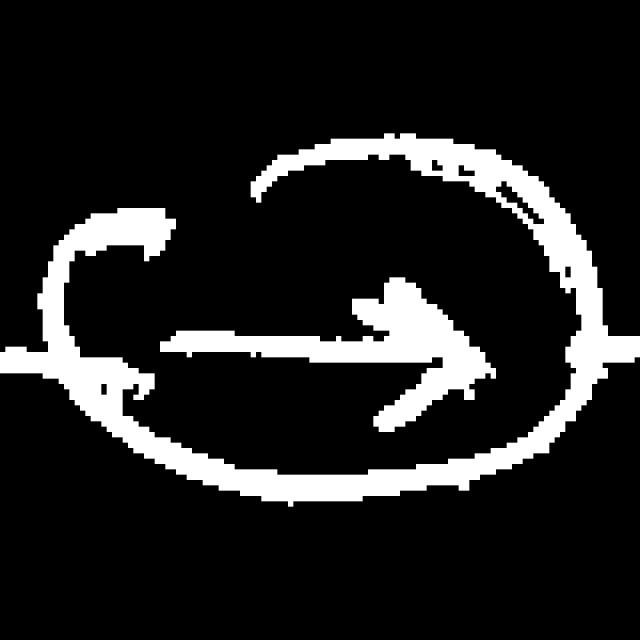current_source: (35, 129, 609, 502)
